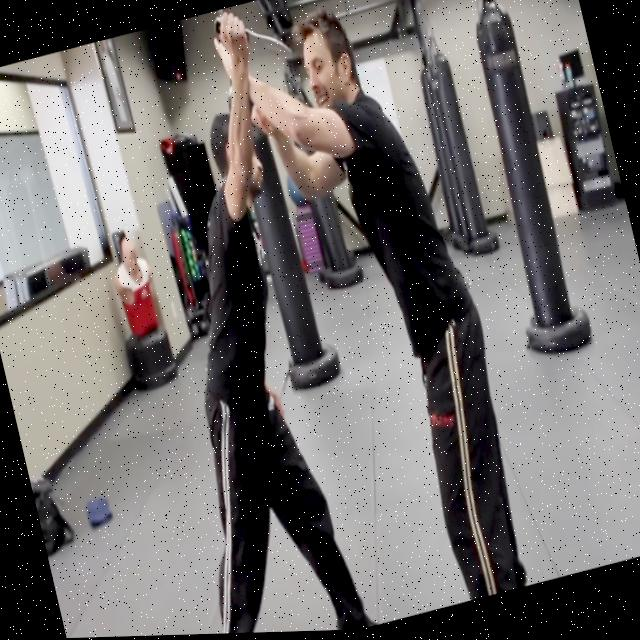knife: (242, 19, 292, 70)
